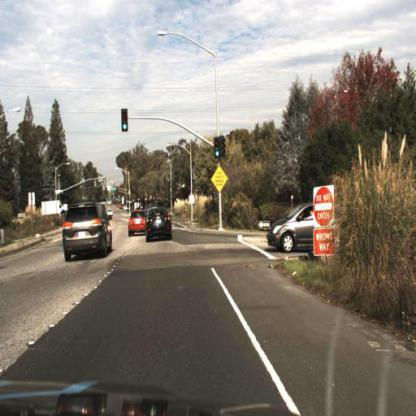car: (62, 200, 111, 262), (267, 204, 318, 255), (146, 202, 177, 242), (128, 207, 149, 240)
trafficLight-Green: (214, 136, 222, 167), (123, 109, 131, 134)
